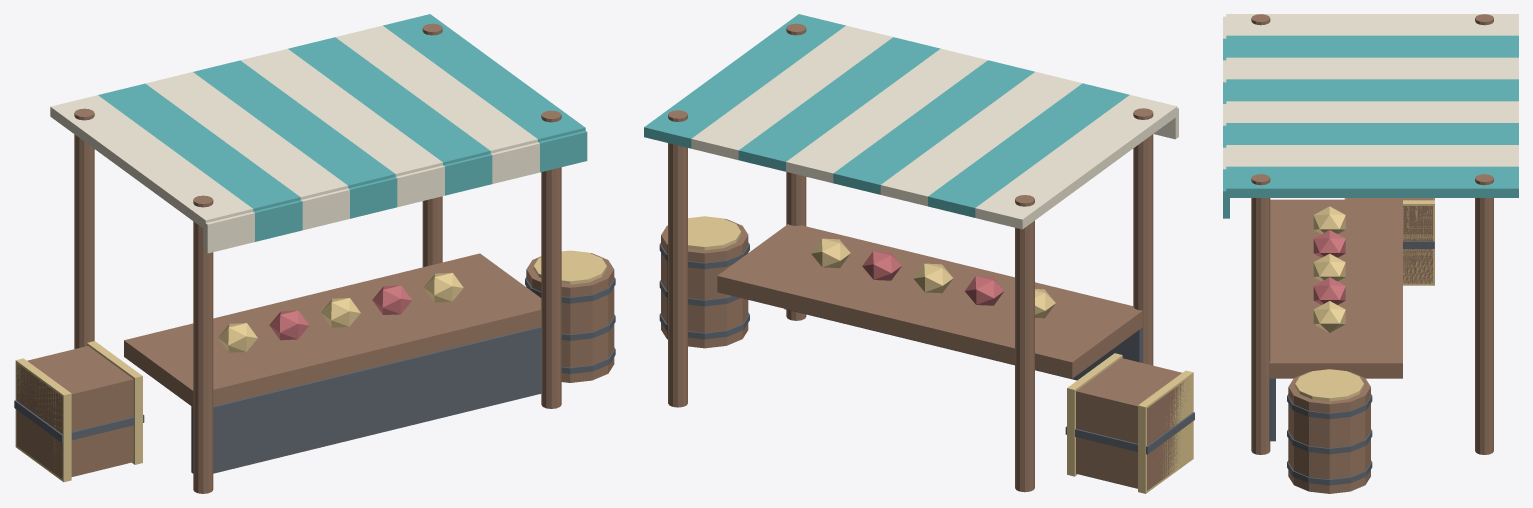
File: marche_des_corsaires.glb
3 renders of one model, left to right at view 1: azimuth 30°, elevation 25°; view 2: azimuth 150°, elevation 25°; view 3: azimuth 270°, elevation 25°, orthographic. The views are drawn at different scales.
Visible parts, largest first — view 1: static_wood, static_ivory, static_teal, static_dark, static_brass, static_red; view 2: static_wood, static_ivory, static_teal, static_brass, static_dark, static_red; view 3: static_wood, static_teal, static_ivory, static_brass, static_dark, static_red.
Boxes of the visible parts, x1,y1,x2,y2 form: static_wood: (17, 23, 614, 493); static_ivory: (50, 25, 539, 253); static_teal: (98, 14, 587, 241); static_dark: (14, 277, 615, 473); static_brass: (15, 250, 606, 482); static_red: (269, 285, 411, 340); static_wood: (661, 23, 1188, 492); static_ivory: (691, 25, 1178, 229); static_teal: (644, 14, 1129, 217); static_brass: (688, 216, 1193, 493); static_dark: (659, 242, 1194, 454); static_red: (862, 251, 1004, 305); static_wood: (1251, 14, 1493, 493); static_teal: (1223, 35, 1518, 218); static_ivory: (1223, 14, 1518, 169); static_brass: (1295, 198, 1434, 401); static_dark: (1269, 241, 1434, 485); static_red: (1313, 230, 1345, 304).
Bounding box in the file's own units: 6.82 × 3.53 × 3.44.
